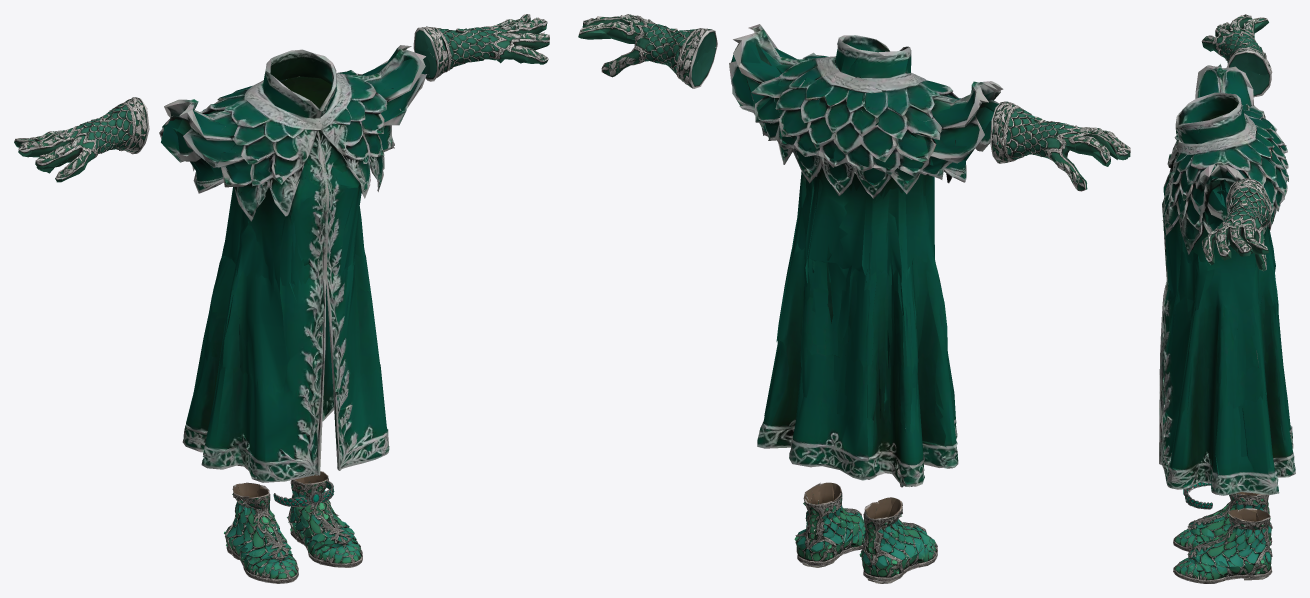
Rendered from ai_mage_emerald.glb.
3 views of the same model, side by side, from view 1: azimuth 30°, elevation 25°; view 2: azimuth 150°, elevation 25°; view 3: azimuth 270°, elevation 25° (orthographic). The views are drawn at different scales.
Visible parts, largest first — view 1: robe, gloves, feet, circlet; view 2: robe, gloves, feet; view 3: robe, feet, gloves, circlet.
Boxes of the visible parts, x1,y1,x2,y2 form: robe: [159, 45, 426, 482]; gloves: [14, 14, 549, 182]; feet: [224, 471, 362, 583]; circlet: [273, 480, 334, 507]; robe: [729, 24, 1003, 487]; gloves: [578, 14, 1130, 191]; feet: [794, 482, 937, 583]; robe: [1159, 64, 1295, 495]; feet: [1173, 492, 1272, 583]; gloves: [1201, 14, 1272, 271]; circlet: [1183, 482, 1212, 509].
Size of the model in its own units: 1.8 by 1.63 by 0.4392.
4 materials, 4 textured.
